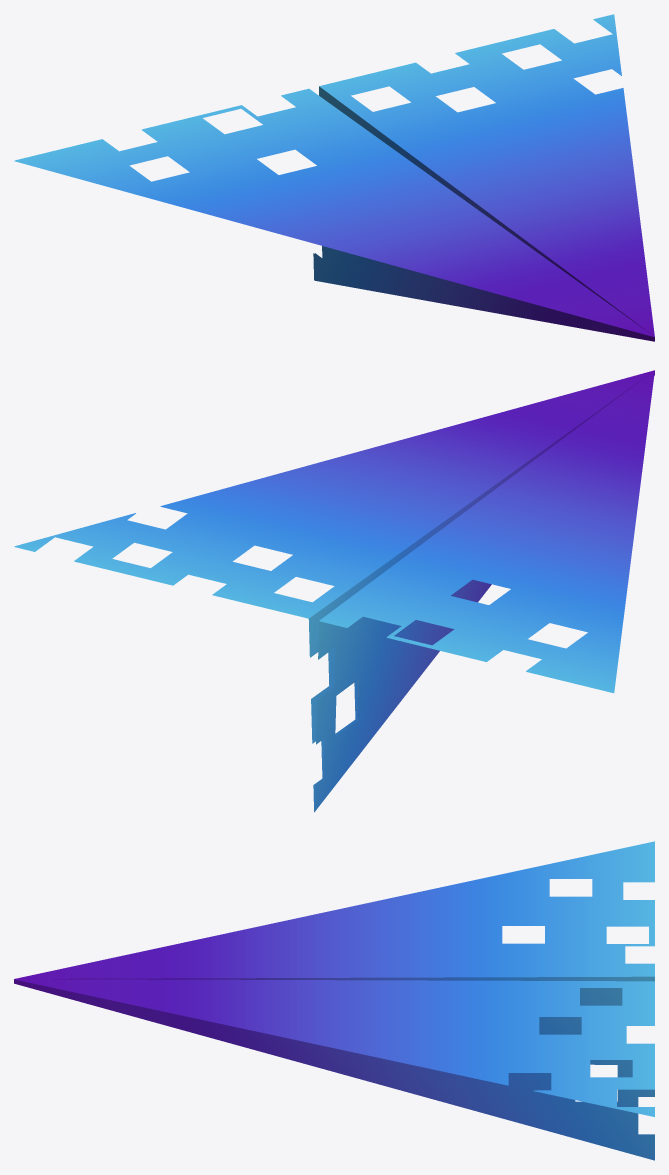
The model's file is TCS_Exhibition_PaperAirplane.fbx.
3 views of the same model, one above another, from view 1: azimuth 30°, elevation 25°; view 2: azimuth 150°, elevation 25°; view 3: azimuth 270°, elevation 25° (orthographic). The views are drawn at different scales.
Parts seen in each view (by area): view 1: TCS_Exhibition_PaperAirplane; view 2: TCS_Exhibition_PaperAirplane; view 3: TCS_Exhibition_PaperAirplane.
Part boxes in pixels (bbox=[...]): TCS_Exhibition_PaperAirplane: bbox=[14, 14, 654, 341]; TCS_Exhibition_PaperAirplane: bbox=[14, 370, 654, 812]; TCS_Exhibition_PaperAirplane: bbox=[14, 841, 654, 1160].
Bounding box in the file's own units: 12.09 × 3.72 × 11.89.
